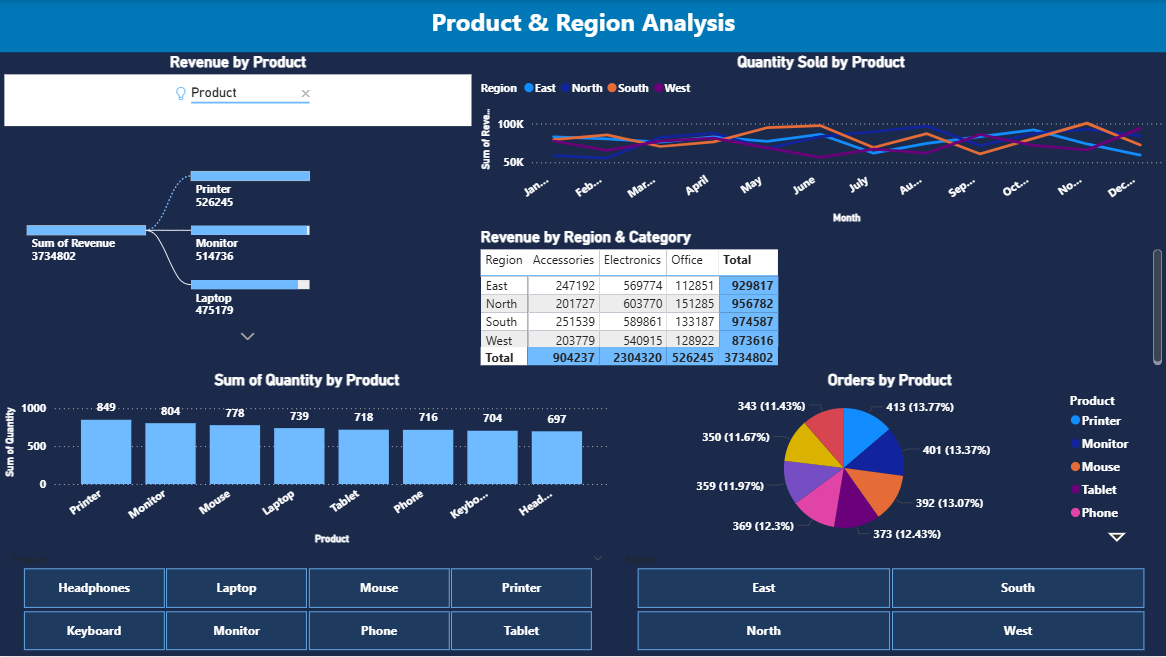

The dashboard page shown, as its layout file describes it:
{"tool":"powerbi","page":{"name":"Product & Region Analysis","canvas":[1280,720],"ordinal":3},"visuals":[{"type":"textbox","box":[0,0,1280.3,57.6],"z":0},{"type":"decompositionTreeVisual","title":"Revenue by Product","fields":{"ExplainBy":["customer_cohort_dataset.Product"],"Analyze":["Sum(customer_cohort_dataset.Revenue)"]},"box":[0,57.6,522.8,348.5],"z":1000},{"type":"lineChart","title":"Quantity Sold by Product","fields":{"Category":["customer_cohort_dataset.Order_Month.Variation.Date Hierarchy.Month"],"Y":["Sum(customer_cohort_dataset.Revenue)"],"Series":["customer_cohort_dataset.Region"]},"box":[522.8,57.6,757.5,192.1],"z":2000},{"type":"clusteredColumnChart","fields":{"Category":["customer_cohort_dataset.Product"],"Y":["Sum(customer_cohort_dataset.Quantity)"]},"box":[0,406.2,673.8,196.2],"z":3000},{"type":"pivotTable","title":"Revenue by Region & Category","fields":{"Rows":["customer_cohort_dataset.Region"],"Columns":["customer_cohort_dataset.Category"],"Values":["Sum(customer_cohort_dataset.Revenue)"]},"box":[522.8,249.7,757.5,156.4],"z":4000},{"type":"pieChart","title":"Orders by Product","fields":{"Category":["customer_cohort_dataset.Product"],"Y":["CountNonNull(customer_cohort_dataset.Order_ID)"]},"box":[673.8,406.2,606.5,196.2],"z":5000},{"type":"slicer","fields":{"Values":["customer_cohort_dataset.Product"]},"box":[0,602.4,673.8,118],"z":6000},{"type":"slicer","fields":{"Values":["customer_cohort_dataset.Region"]},"box":[673.8,602.4,606.5,118],"z":7000}]}

Visuals, with their boxes in screenshot pixels (x1, y1, x2, y2), scaled from the page's 1280x720 canvas onto the 1166x657 screenshot:
textbox: region(0, 0, 1165, 53)
"Revenue by Product" decompositionTreeVisual: region(0, 53, 476, 371)
"Quantity Sold by Product" lineChart: region(476, 53, 1165, 228)
clusteredColumnChart - customer_cohort_dataset.Product x Sum(customer_cohort_dataset.Quantity): region(0, 371, 614, 550)
"Revenue by Region & Category" pivotTable: region(476, 228, 1165, 371)
"Orders by Product" pieChart: region(614, 371, 1165, 550)
slicer - customer_cohort_dataset.Product: region(0, 550, 614, 656)
slicer - customer_cohort_dataset.Region: region(614, 550, 1165, 656)
